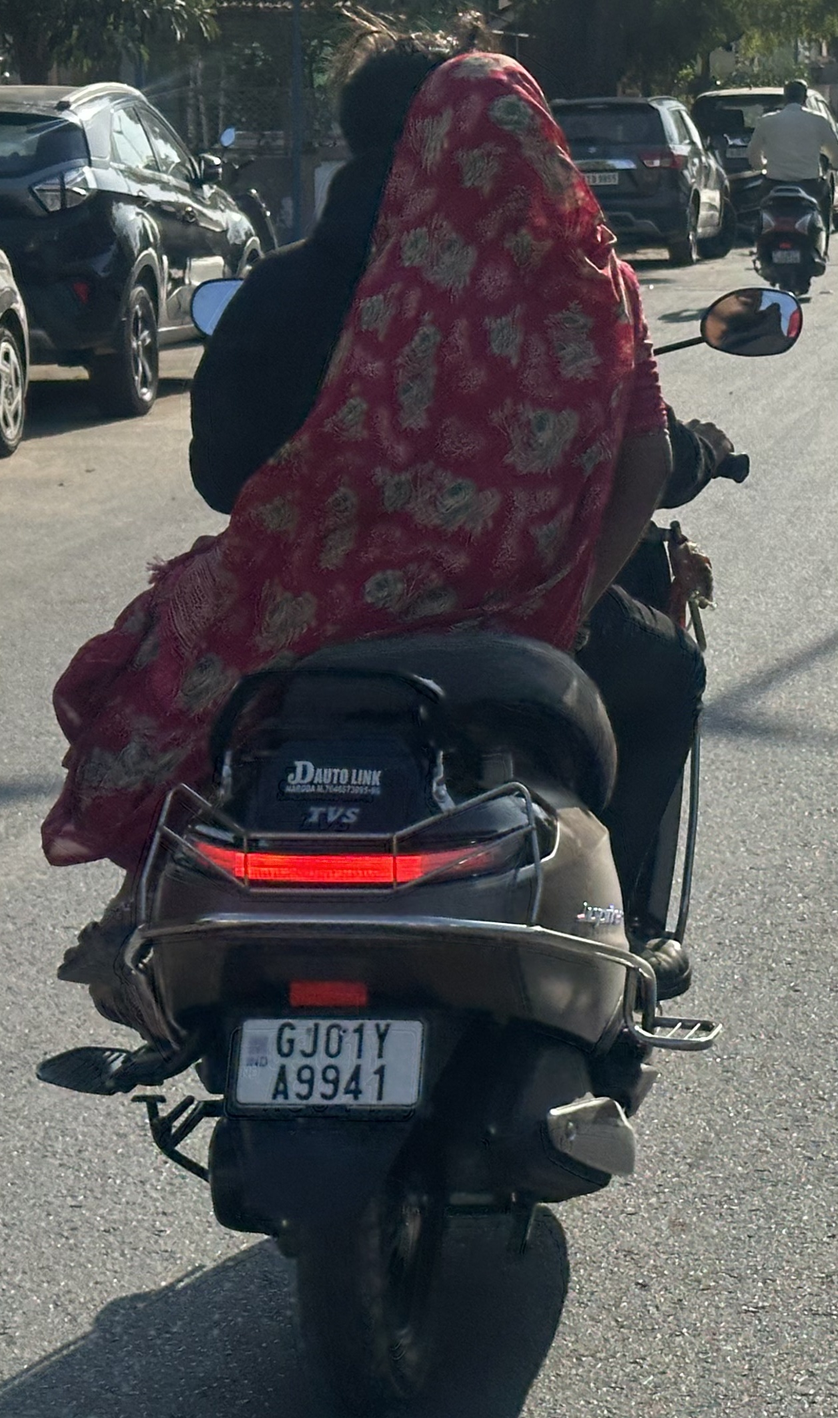BikeWithRider: (27, 19, 820, 1393)
NoHelmet: (399, 37, 568, 230), (326, 25, 488, 218)
